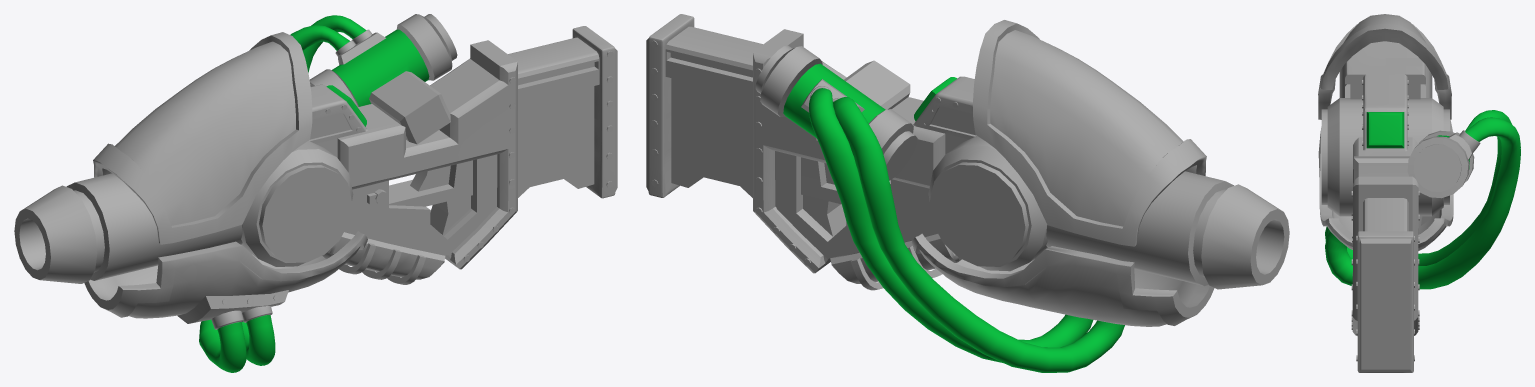
Rendered from ColorGunV2.1.fbx.
3 renders of one model, left to right at view 1: azimuth 30°, elevation 25°; view 2: azimuth 150°, elevation 25°; view 3: azimuth 270°, elevation 25°, orthographic. The views are drawn at different scales.
Visible parts, largest first — view 1: Final_ColorGun1; view 2: Final_ColorGun1; view 3: Final_ColorGun1.
Boxes of the visible parts, <box> form: Final_ColorGun1: <box>14,14,617,372</box>; Final_ColorGun1: <box>646,14,1289,372</box>; Final_ColorGun1: <box>1318,14,1520,372</box>.
Size of the model in its own units: 90.15 by 46.01 by 30.13.
